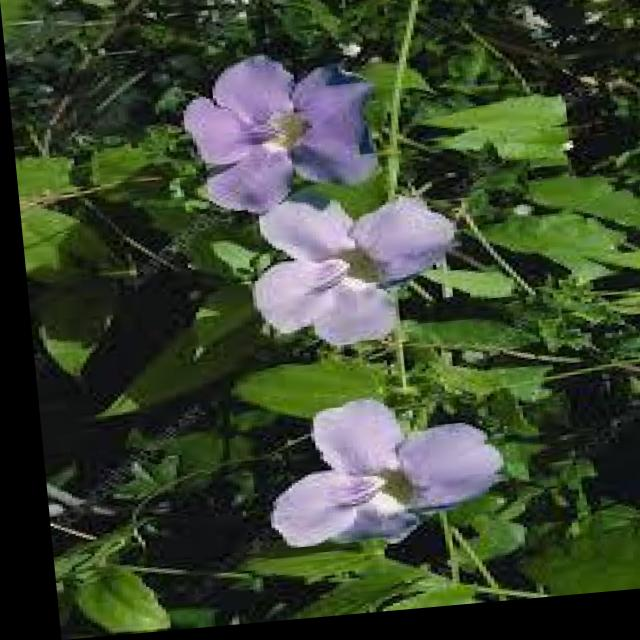Flower: (242, 393, 508, 570), (158, 53, 409, 210), (241, 198, 455, 364)
